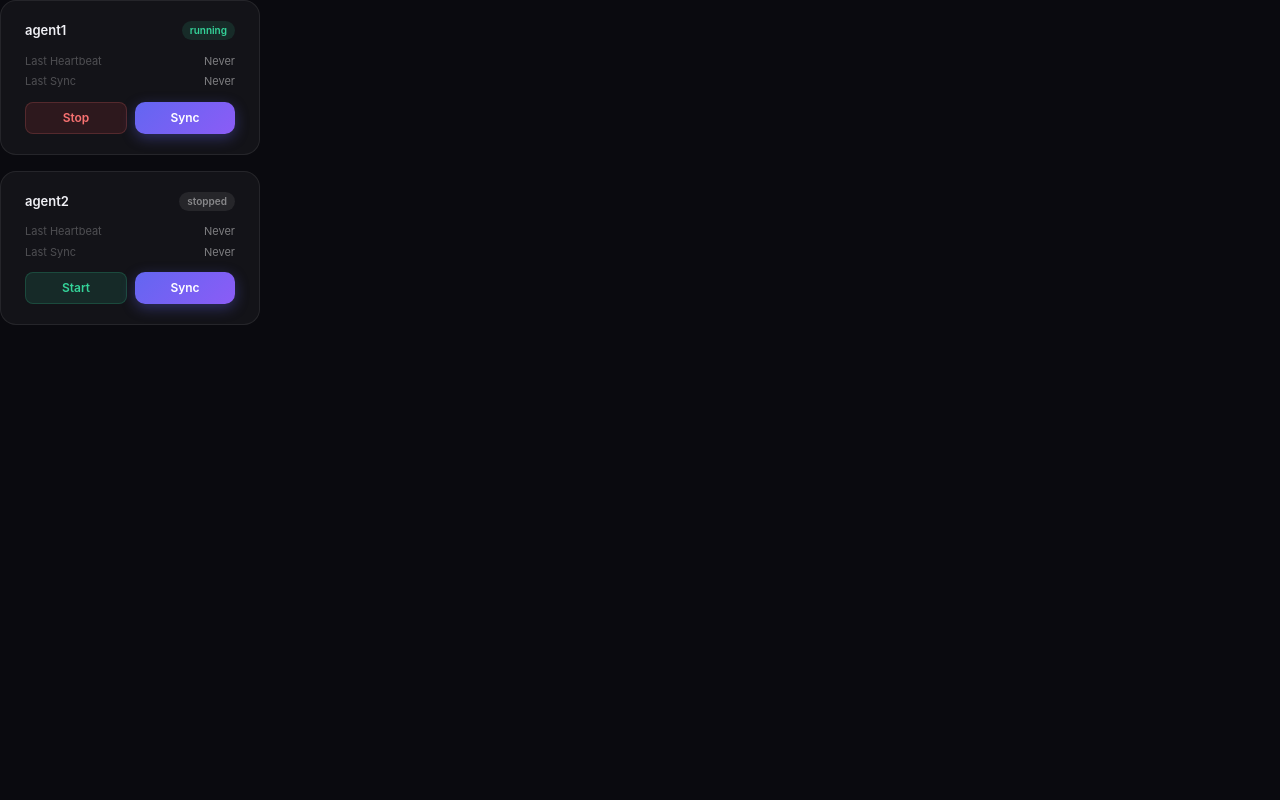
Test: WatcherControls › shows confirmation dialog when stop is clicked
Click the button with test id "stop-btn-agent1". click: [76, 118]
box: [25,102,127,134]
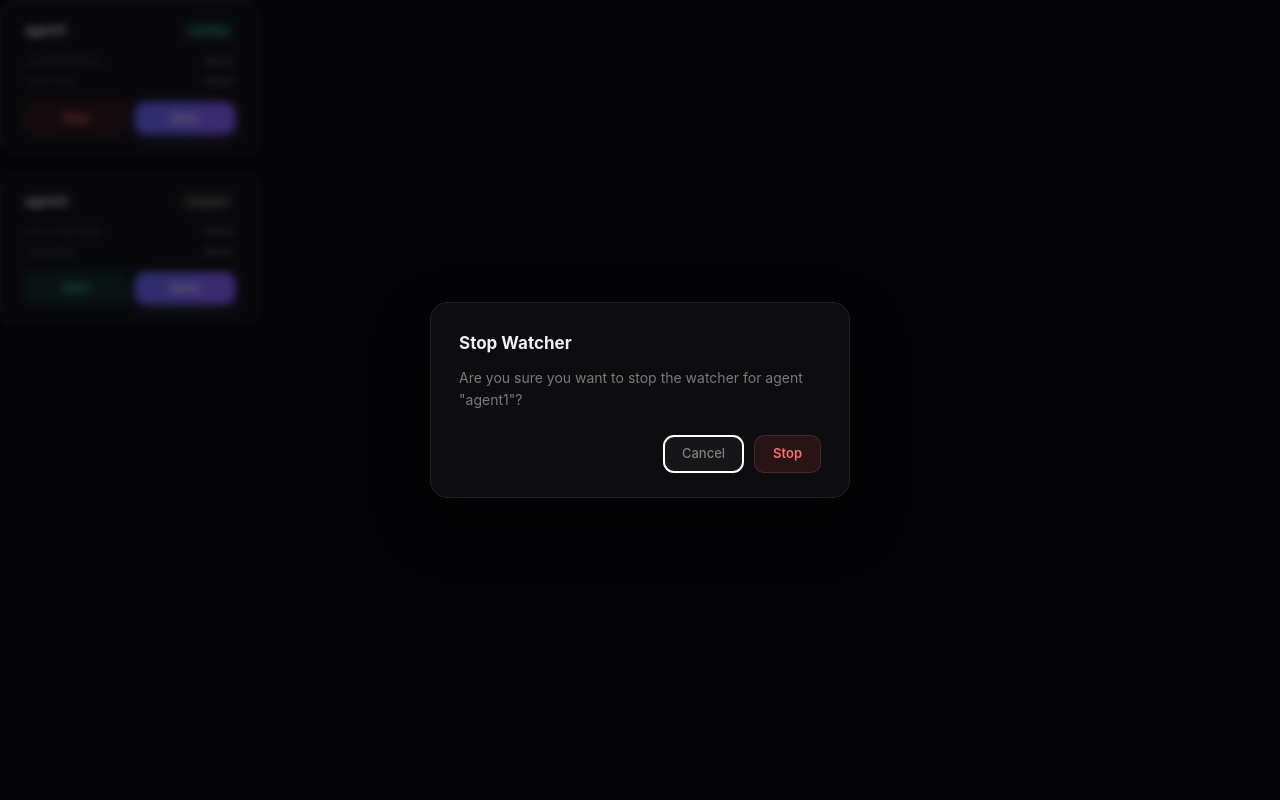
Result: the dialog with test id "confirm-dialog" is shown
Result: the text with test id "confirm-dialog-message" shows "agent1" at [459,369,803,408]
